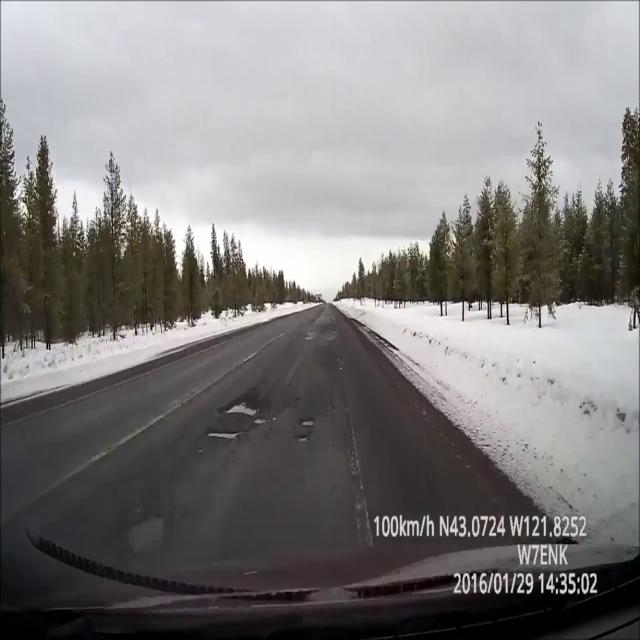Pothole: (121, 511, 168, 558), (226, 400, 260, 418), (206, 431, 246, 441), (310, 307, 326, 323), (300, 416, 316, 428), (298, 434, 310, 444), (304, 331, 315, 341)
